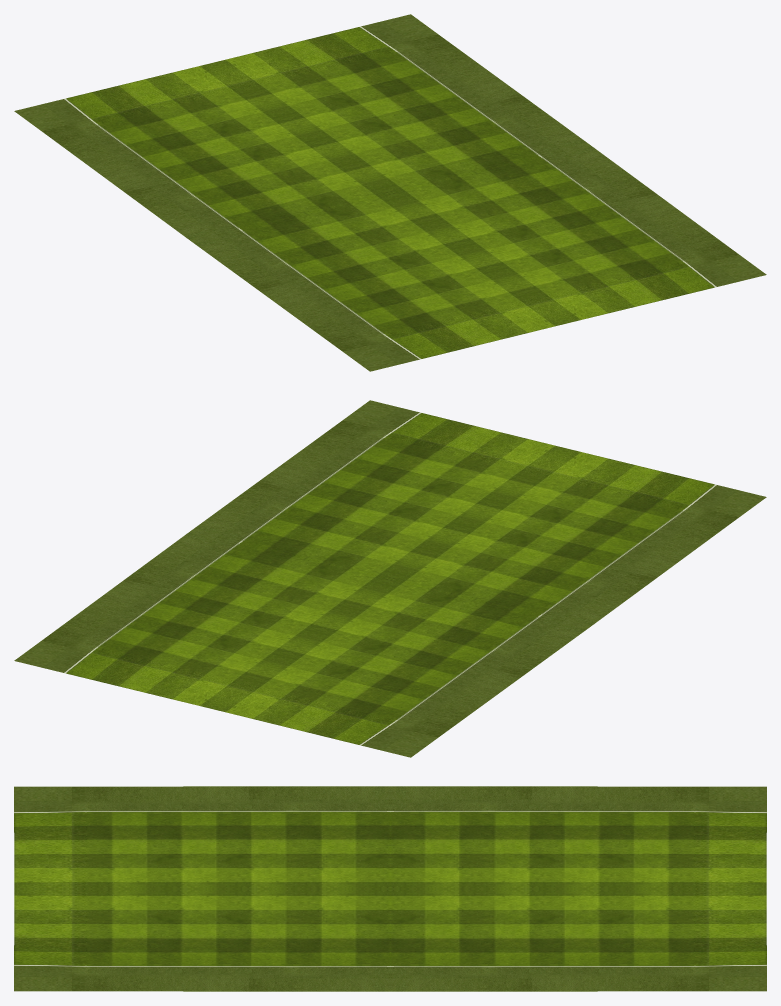
File: GRAMA.fbx
3 views of the same model, one above another, from view 1: azimuth 30°, elevation 25°; view 2: azimuth 150°, elevation 25°; view 3: azimuth 270°, elevation 25° (orthographic). The views are drawn at different scales.
Parts seen in each view (by area): view 1: grama; view 2: grama; view 3: grama.
Boxes of the visible parts, x1,y1,x2,y2 form: grama: (14,14,766,371); grama: (14,400,766,757); grama: (14,786,766,991).
Size of the model in its own units: 8045 by 12464 by 0.00067.
